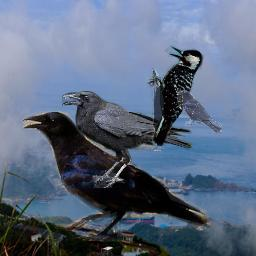Crow: (23, 111, 211, 241), (62, 91, 193, 188), (176, 90, 223, 134)
Woodpecker: (146, 45, 205, 146)
